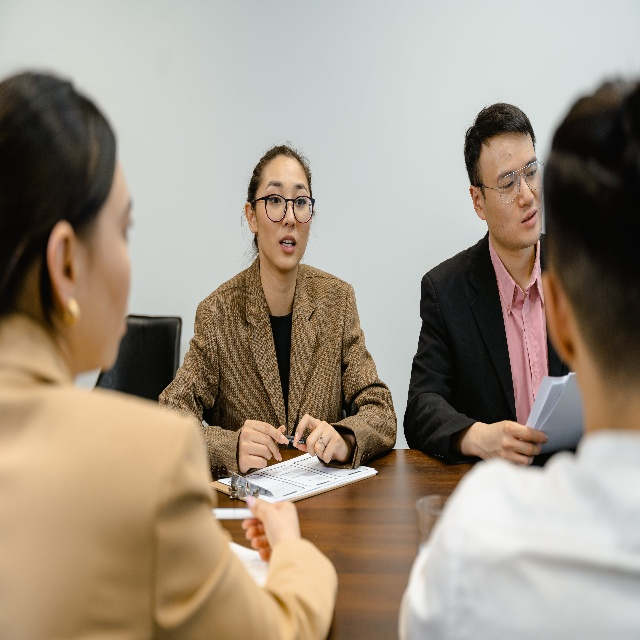Gafas: (473, 159, 545, 203), (250, 193, 316, 225)
Sin_guantes: (238, 491, 305, 566), (480, 418, 549, 467), (292, 413, 350, 466), (236, 416, 289, 473)
